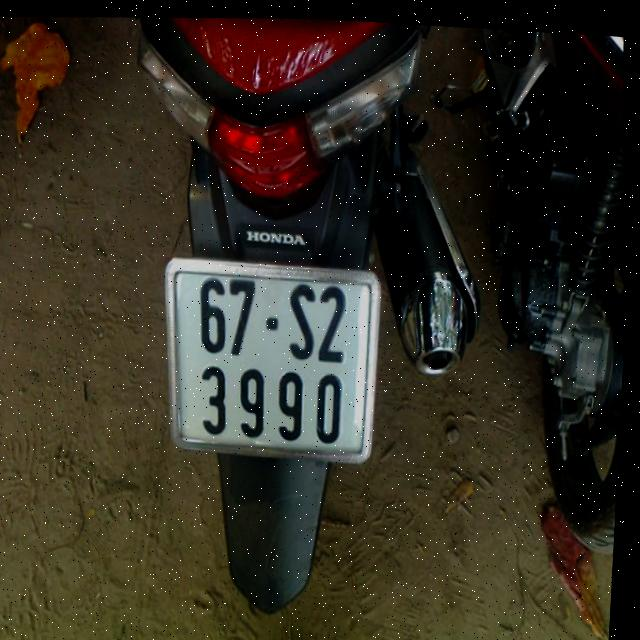motorcycle: (93, 7, 512, 638), (427, 27, 640, 579)
plate: (150, 244, 390, 475)
